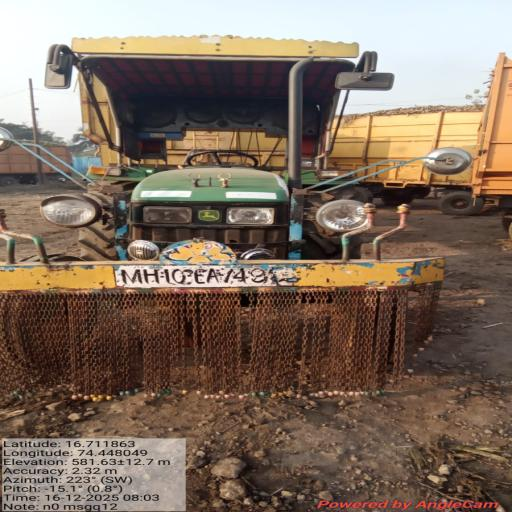number_plate: (100, 264, 336, 292)
